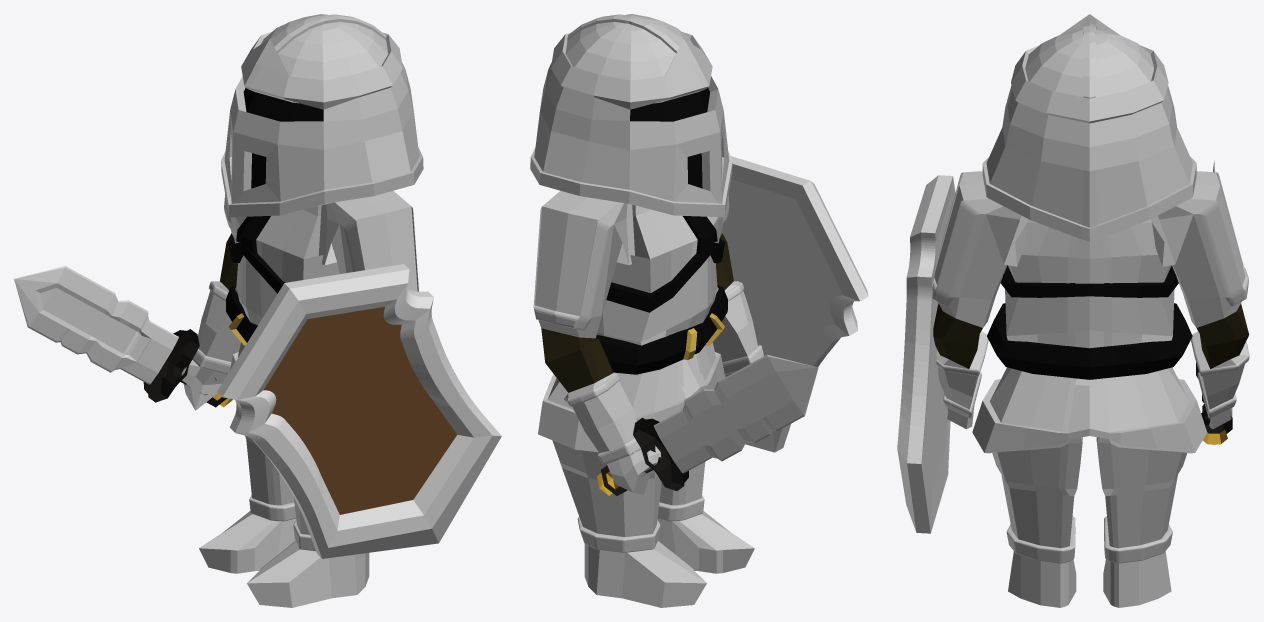
Rendered from knight3.glb.
3 renders of one model, left to right at view 1: azimuth 30°, elevation 25°; view 2: azimuth 150°, elevation 25°; view 3: azimuth 270°, elevation 25°, orthographic. The views are drawn at different scales.
Parts seen in each view (by area): view 1: character; view 2: character; view 3: character.
Boxes of the visible parts, x1,y1,x2,y2 form: character: [14, 14, 501, 607]; character: [530, 14, 868, 607]; character: [897, 14, 1249, 607].
Bounding box in the file's own units: 2.39 × 3.65 × 2.08.
